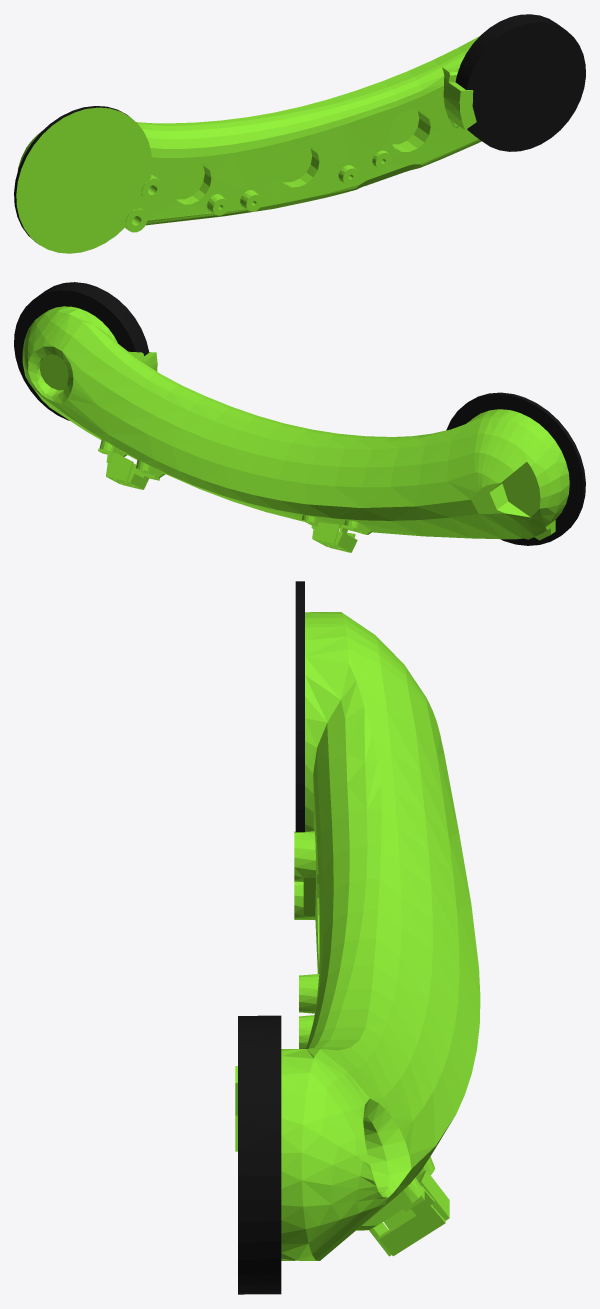
The picture shows the model from 3 angles, top to bottom: view 1: azimuth 30°, elevation 25°; view 2: azimuth 150°, elevation 25°; view 3: azimuth 270°, elevation 25°; orthographic projection. The views are drawn at different scales.
Visible parts, largest first — view 1: node; view 2: node; view 3: node.
Part boxes in pixels (x1=…): node: x1=14, y1=14, x2=585, y2=253; node: x1=14, y1=282, x2=585, y2=552; node: x1=235, y1=581, x2=480, y2=1294.
Bounding box in the file's own units: 832 × 233 × 234.
